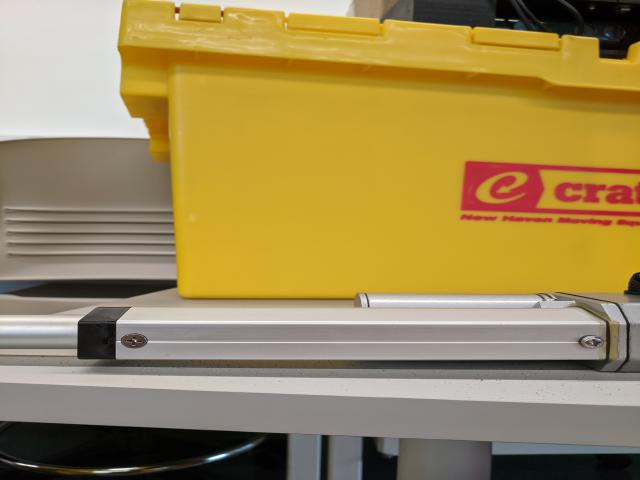CRS: (119, 333, 148, 349), (579, 334, 607, 350)
